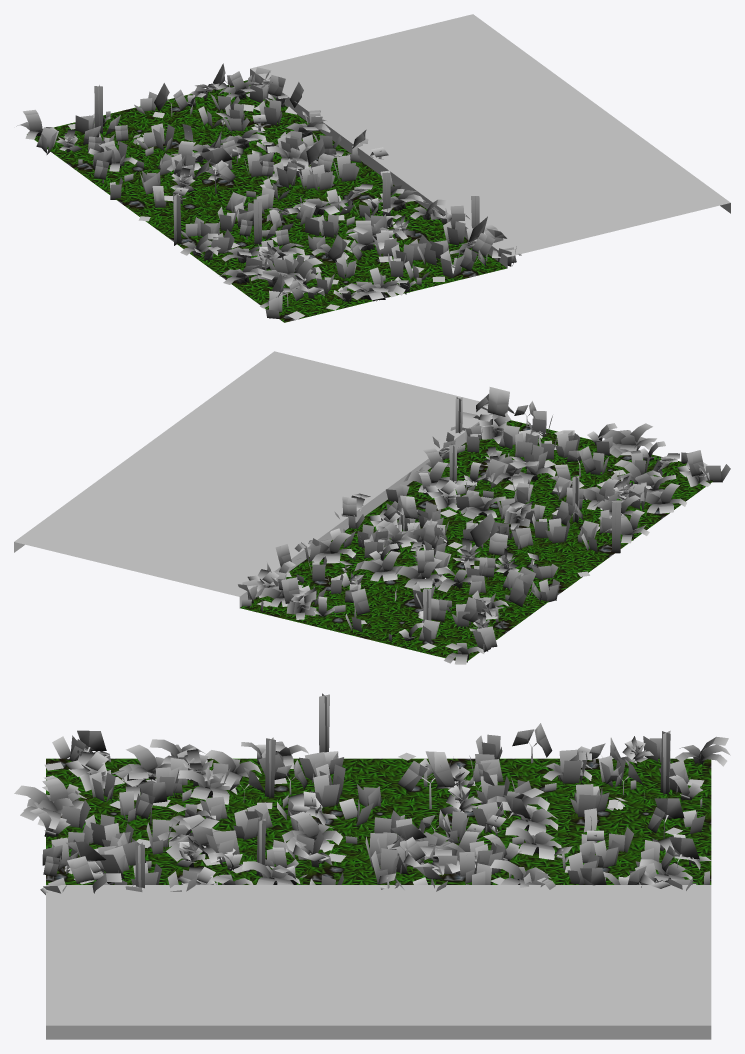
Rendered from GrassWalk.fbx.
The picture shows the model from 3 angles, top to bottom: view 1: azimuth 30°, elevation 25°; view 2: azimuth 150°, elevation 25°; view 3: azimuth 270°, elevation 25°; orthographic projection. The views are drawn at different scales.
Visible parts, largest first — view 1: GrassWalk; view 2: GrassWalk; view 3: GrassWalk.
Boxes of the visible parts, box(x1,y1,x2,y2) form: GrassWalk: box(16, 14, 730, 322); GrassWalk: box(14, 351, 730, 664); GrassWalk: box(14, 693, 730, 1039).
Size of the model in its own units: 5.15 by 0.5619 by 5.39.
